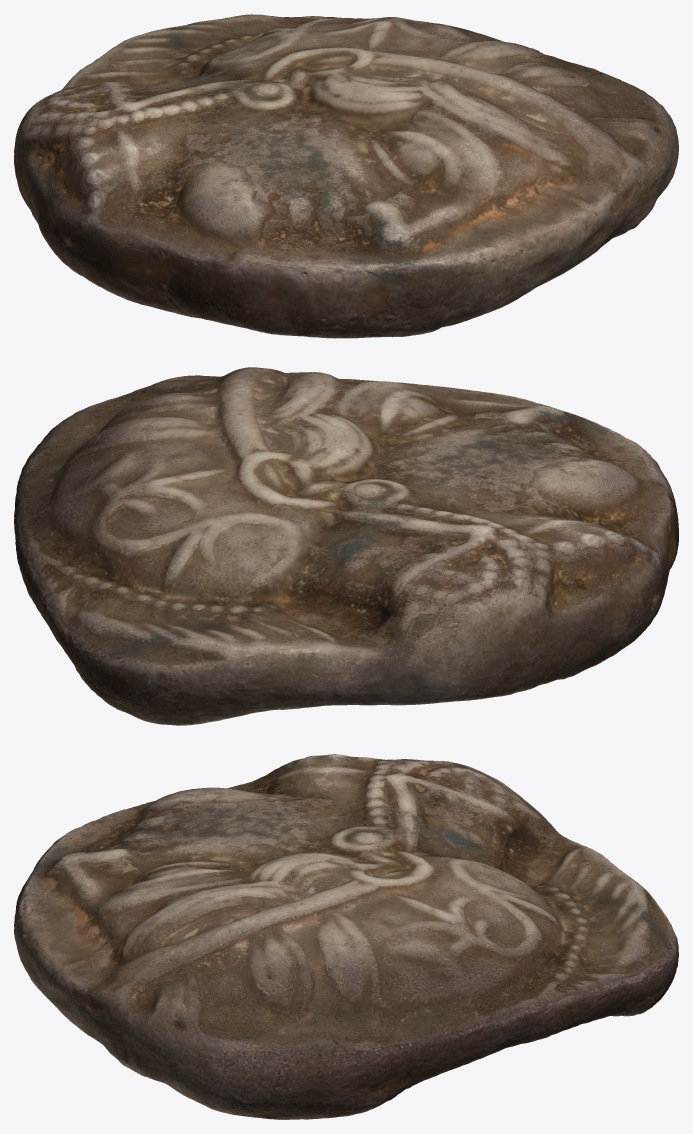
Rendered from coin.glb.
The picture shows the model from 3 angles, top to bottom: view 1: azimuth 30°, elevation 25°; view 2: azimuth 150°, elevation 25°; view 3: azimuth 270°, elevation 25°; orthographic projection. The views are drawn at different scales.
Parts seen in each view (by area): view 1: Object_2; view 2: Object_2; view 3: Object_2.
Boxes of the visible parts, box(x1,y1,x2,y2) form: Object_2: box(14, 14, 678, 338); Object_2: box(14, 367, 678, 725); Object_2: box(14, 754, 678, 1119).
Size of the model in its own units: 1 by 0.2322 by 0.993.
1 material, 1 textured.
